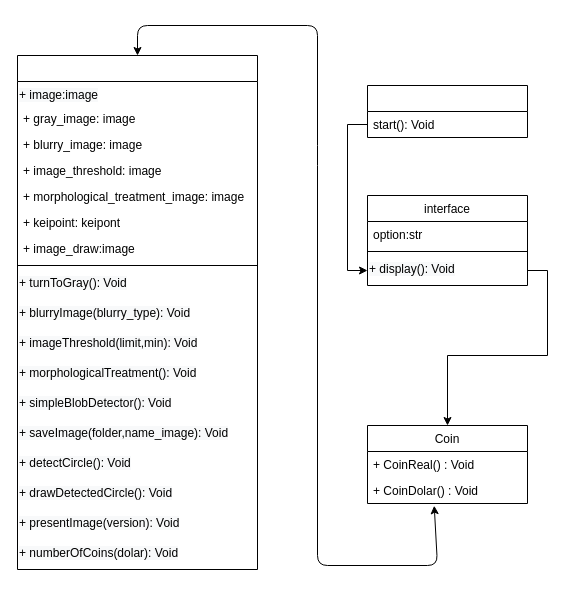
Image size: 573x592. Some labels were removed from this diagram. The shapes that lost their labels are listed below. From the top down, each one's box as (x1, y1, x2, y2) in pixels, then its label:
(366, 84, 528, 138): CoinChallenger
(16, 54, 258, 570): CoinOpenCV
